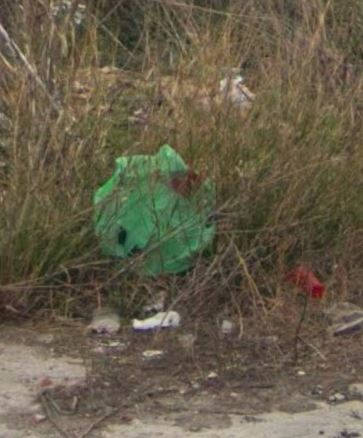trash: (65, 139, 229, 286), (199, 65, 279, 121), (287, 252, 328, 307), (127, 304, 183, 331)
